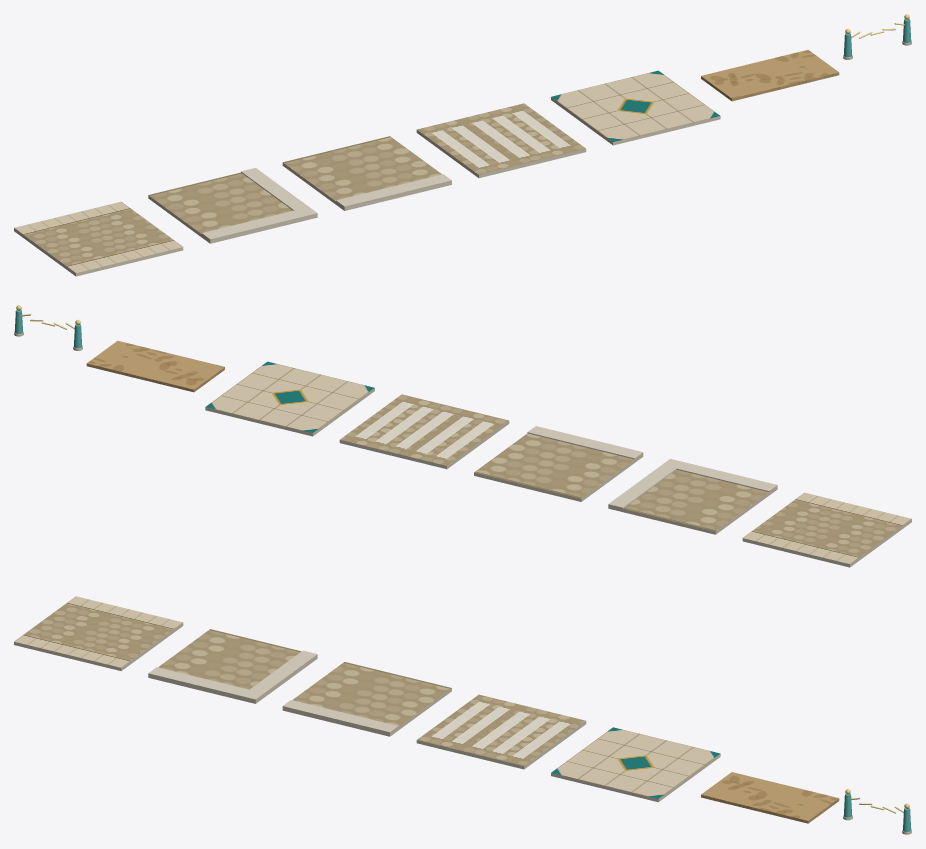
File: kit-16-jalan.glb
3 renders of one model, top to bottom at view 1: azimuth 30°, elevation 25°; view 2: azimuth 150°, elevation 25°; view 3: azimuth 330°, elevation 25°, orthographic.
Parts seen in each view (by area): view 1: Jalan_Belok, Jalan_SimpangT, Jalan_Penyeberangan, Jalan_Plaza, Jalan_Lurus, Jalan_Setapak, Jalan_Bollard; view 2: Jalan_Belok, Jalan_SimpangT, Jalan_Penyeberangan, Jalan_Plaza, Jalan_Lurus, Jalan_Setapak, Jalan_Bollard; view 3: Jalan_Belok, Jalan_SimpangT, Jalan_Penyeberangan, Jalan_Lurus, Jalan_Plaza, Jalan_Setapak, Jalan_Bollard.
Boxes of the visible parts, x1,y1,x2,y2 form: Jalan_Belok: (148,168,317,243); Jalan_SimpangT: (282,136,451,210); Jalan_Penyeberangan: (416,103,586,178); Jalan_Plaza: (551,70,720,145); Jalan_Lurus: (14,201,183,276); Jalan_Setapak: (701,50,839,101); Jalan_Bollard: (843,14,911,59); Jalan_Belok: (608,459,777,534); Jalan_SimpangT: (474,426,643,501); Jalan_Penyeberangan: (339,394,509,469); Jalan_Plaza: (205,361,374,436); Jalan_Lurus: (742,492,911,567); Jalan_Setapak: (86,341,224,392); Jalan_Bollard: (14,305,82,350); Jalan_Belok: (148,629,317,703); Jalan_SimpangT: (282,662,451,736); Jalan_Penyeberangan: (416,694,586,769); Jalan_Lurus: (14,596,183,671); Jalan_Plaza: (551,727,720,802); Jalan_Setapak: (701,772,839,823); Jalan_Bollard: (843,789,911,834).
Bounding box in the file's own units: 32.26 × 1.03 × 4.
7 materials, 4 textured.
